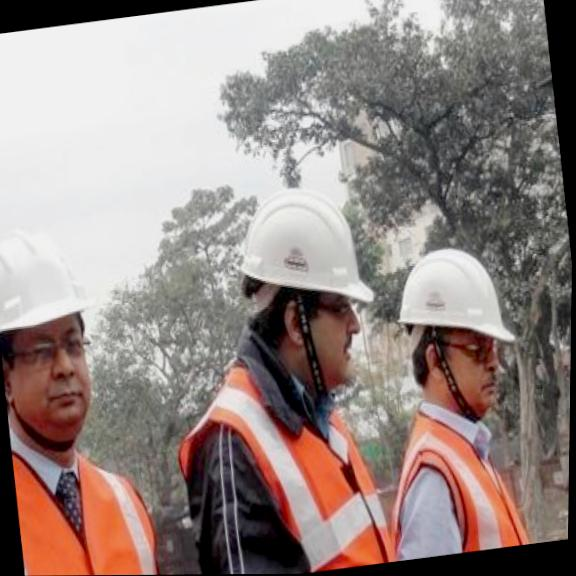safety_vest: (172, 330, 402, 575), (7, 414, 181, 576), (392, 386, 542, 560)
